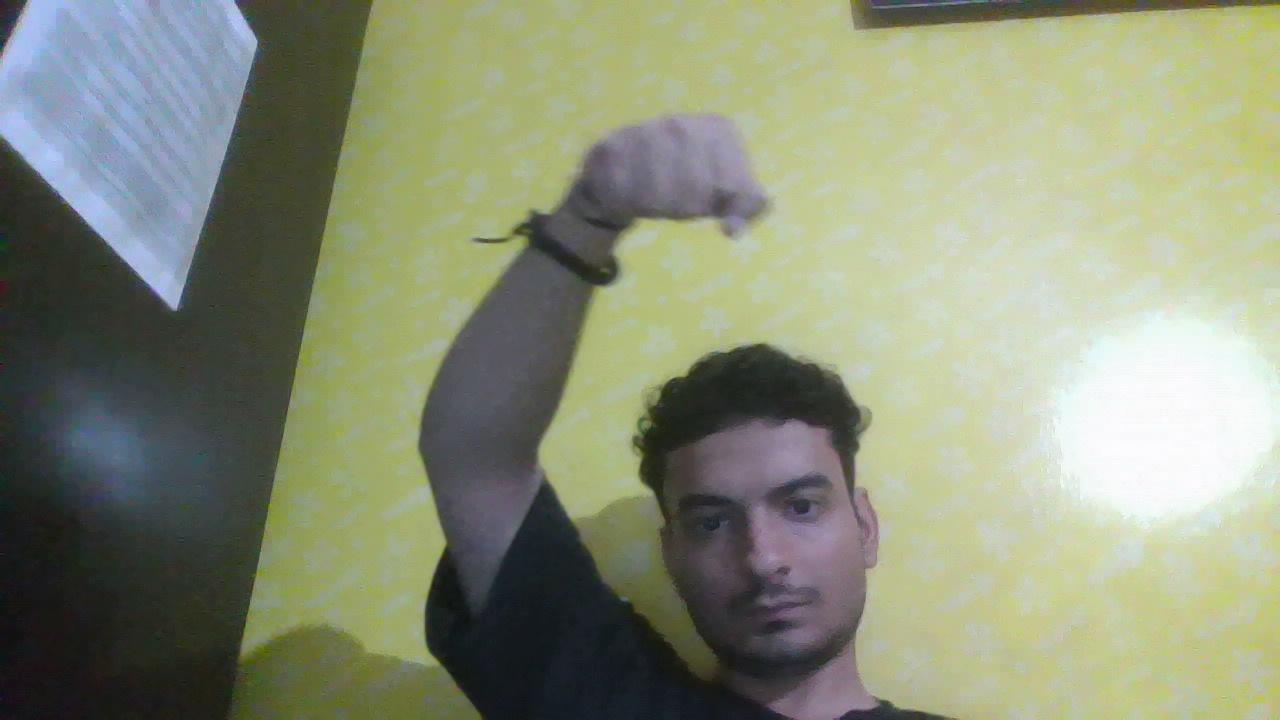Yes: (560, 95, 825, 251)
